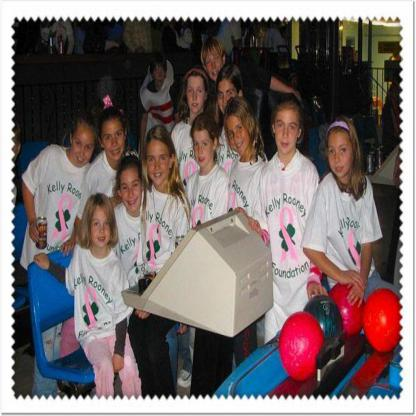Ball: (278, 309, 326, 385), (363, 289, 401, 349), (330, 282, 365, 343), (304, 296, 343, 350)
